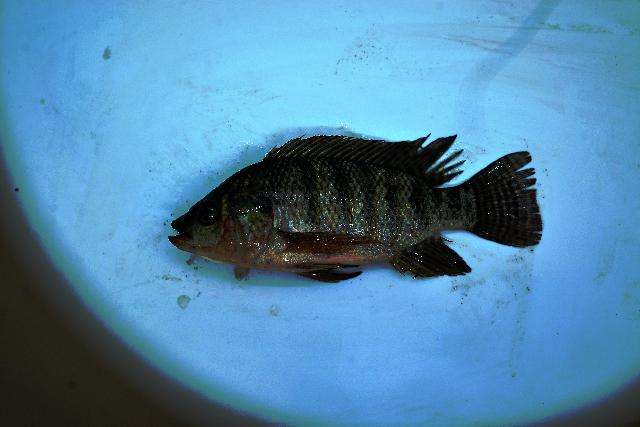Columnaris Disease: (169, 136, 542, 282)
